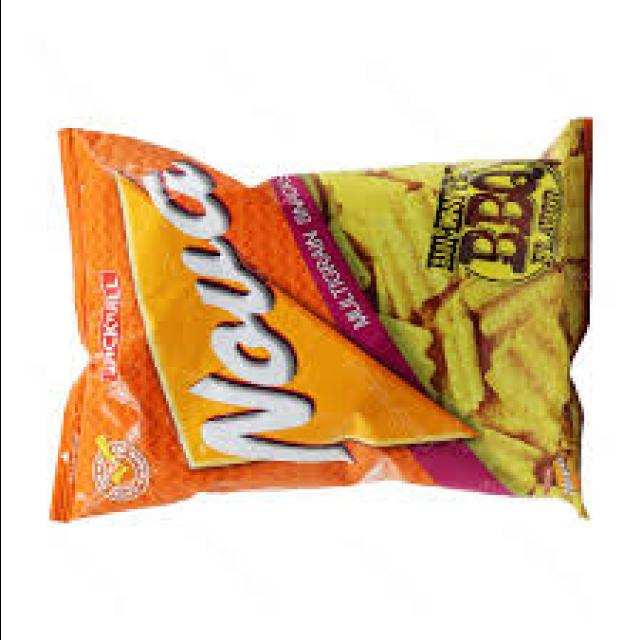junkfood wrapper: (50, 120, 589, 521)
